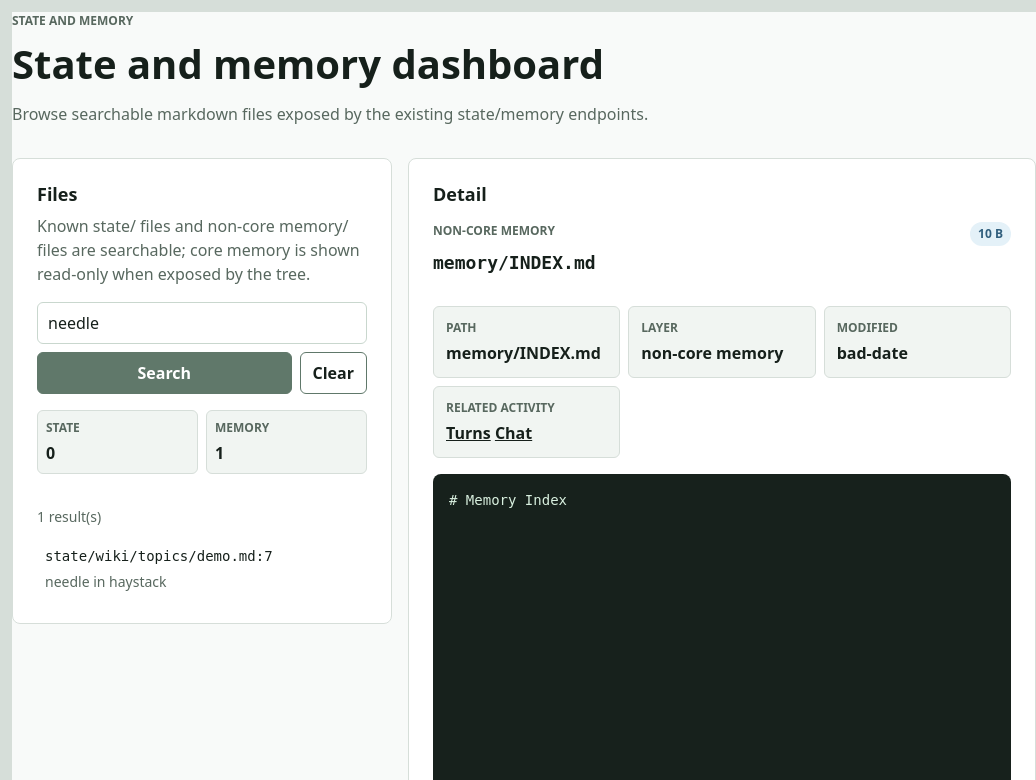
Test: StateMemoryRoute › renders search hits and endpoint errors without blanking the detail pane
expect the text "1 result(s)" is shown: met, box [37,506,101,526]
expect the text "state/wiki/topics/demo.md:7" is shown: met, box [45,548,273,564]
What coordinates should you click on to do the following:
click the button "Clear"
I would click on:
 (333, 372)
Its box is [300,352,367,394].
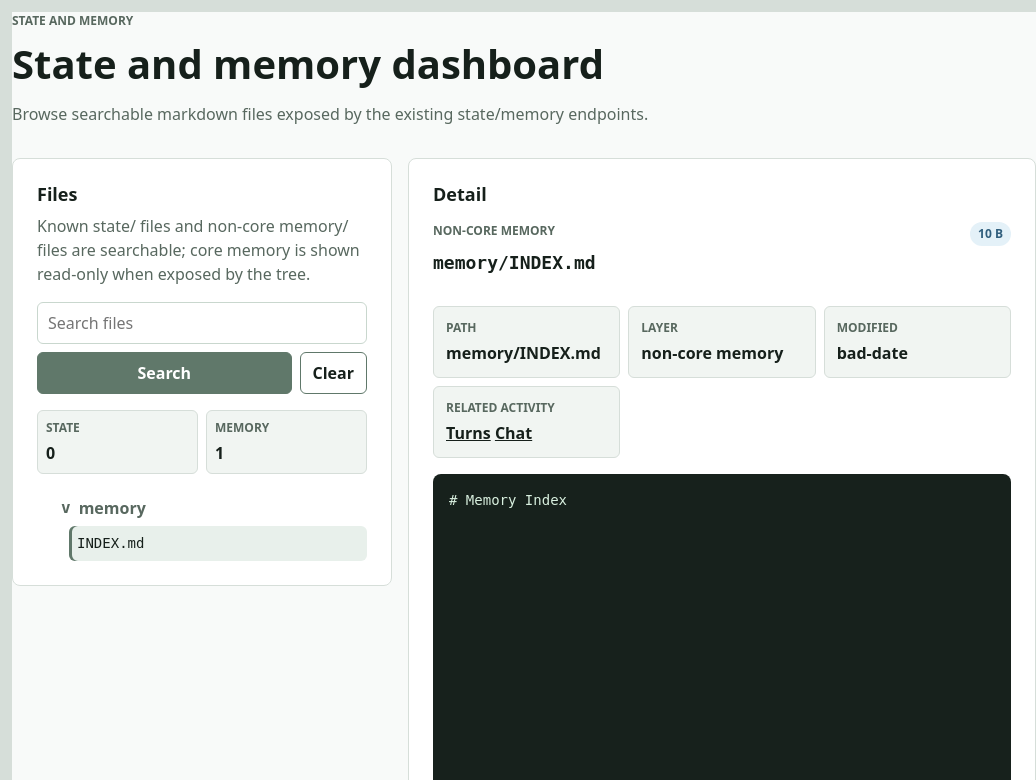
expect the button "needle in haystack" is gone: met
